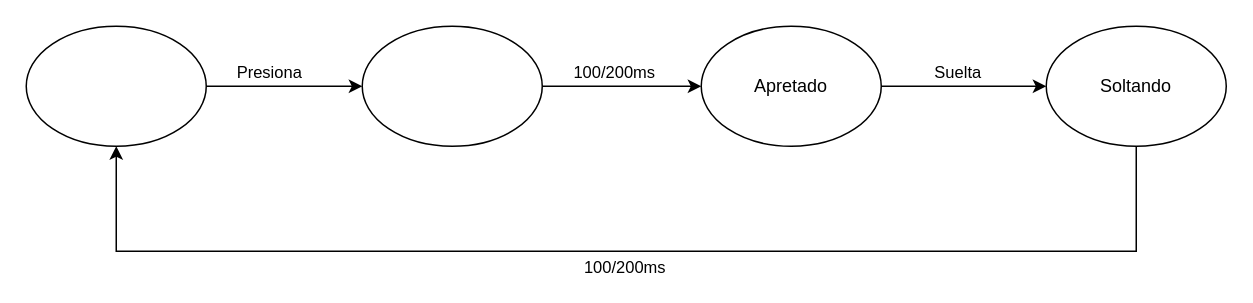
This 1253x303 diagram has some shape labels left out. Each missing label, with the centre of its shape:
"Apretando" goes at point 451,85.
"Reposo" goes at point 115,85.
